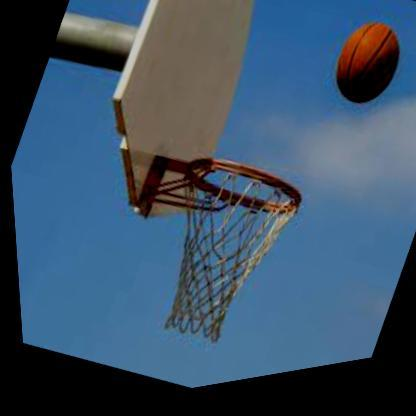basketball: (320, 22, 409, 127)
rim: (123, 143, 312, 372)
